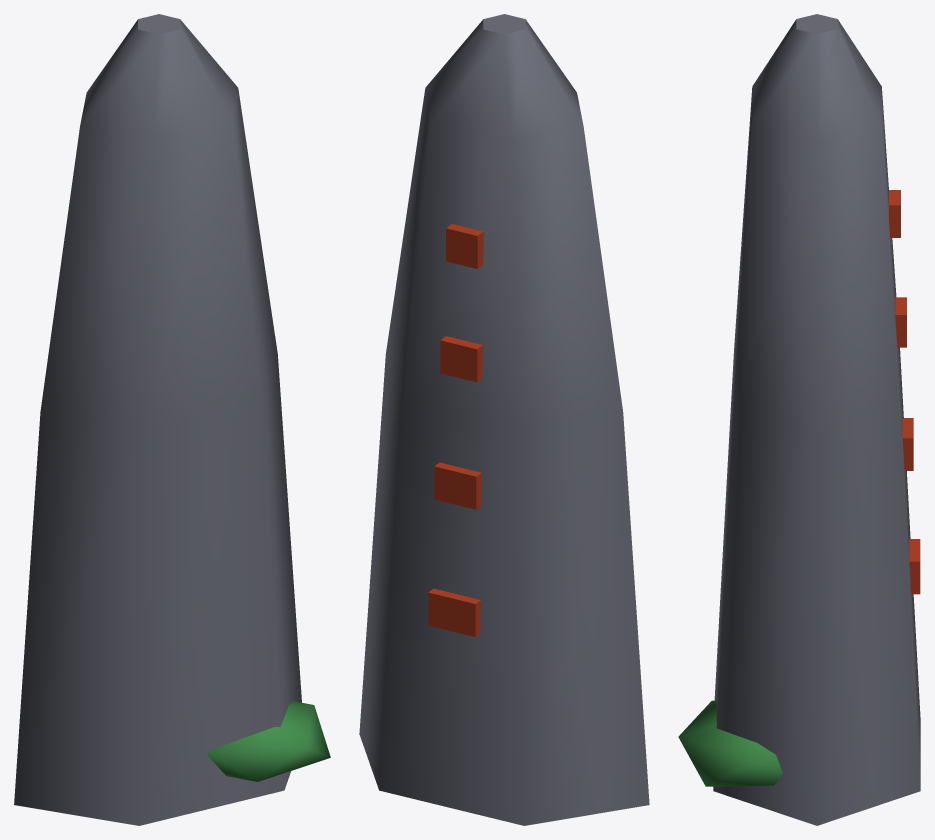
The model's file is rune_stone.glb.
The picture shows the model from 3 angles, left to right: view 1: azimuth 30°, elevation 25°; view 2: azimuth 150°, elevation 25°; view 3: azimuth 270°, elevation 25°; orthographic projection.
Parts seen in each view (by area): view 1: stone; view 2: stone; view 3: stone.
Part boxes in pixels (left/top/right/bottom): stone: left=14, top=14, right=330, bottom=825; stone: left=359, top=14, right=649, bottom=825; stone: left=678, top=14, right=920, bottom=825.
Size of the model in its own units: 1.1 by 2.7 by 0.8103.
